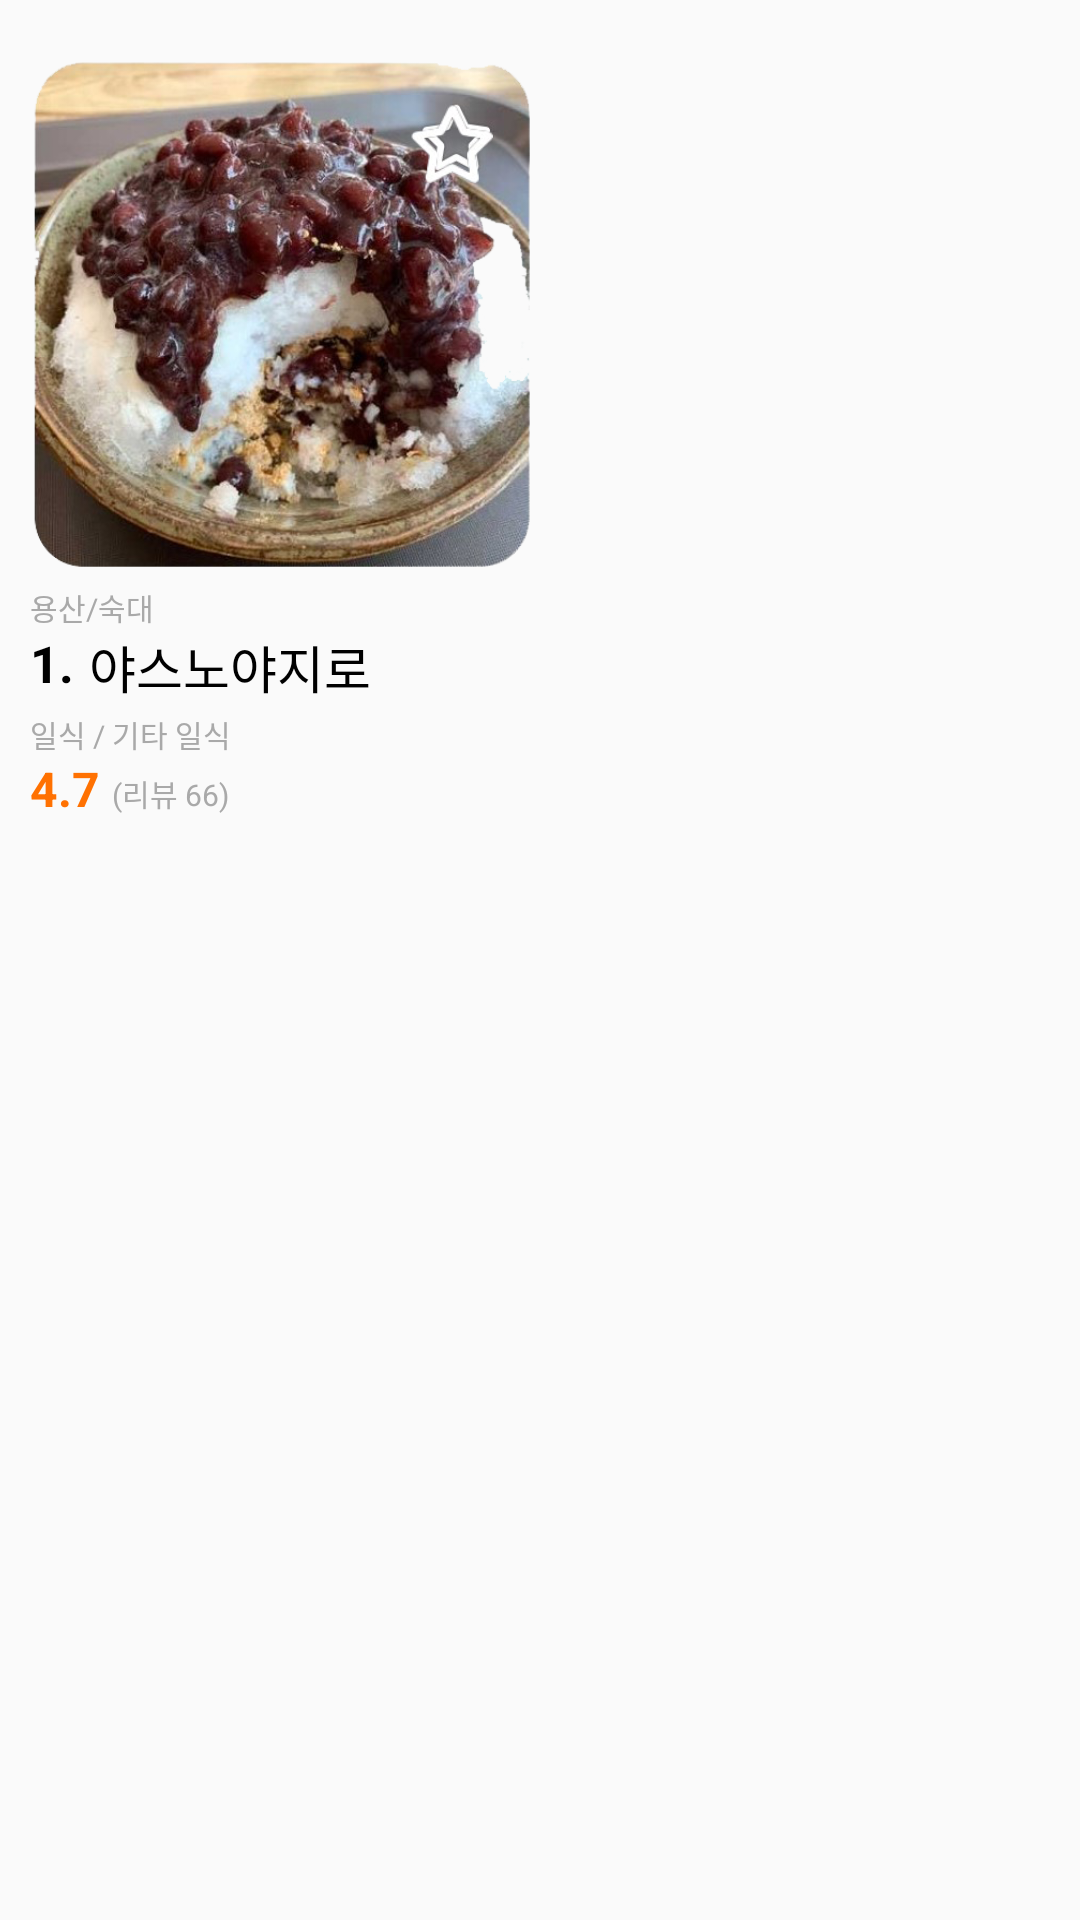

Point at icon controls on the screen. Image size 1080x1920, points as (x=x, y=y).
frg star: (x=451, y=143)
